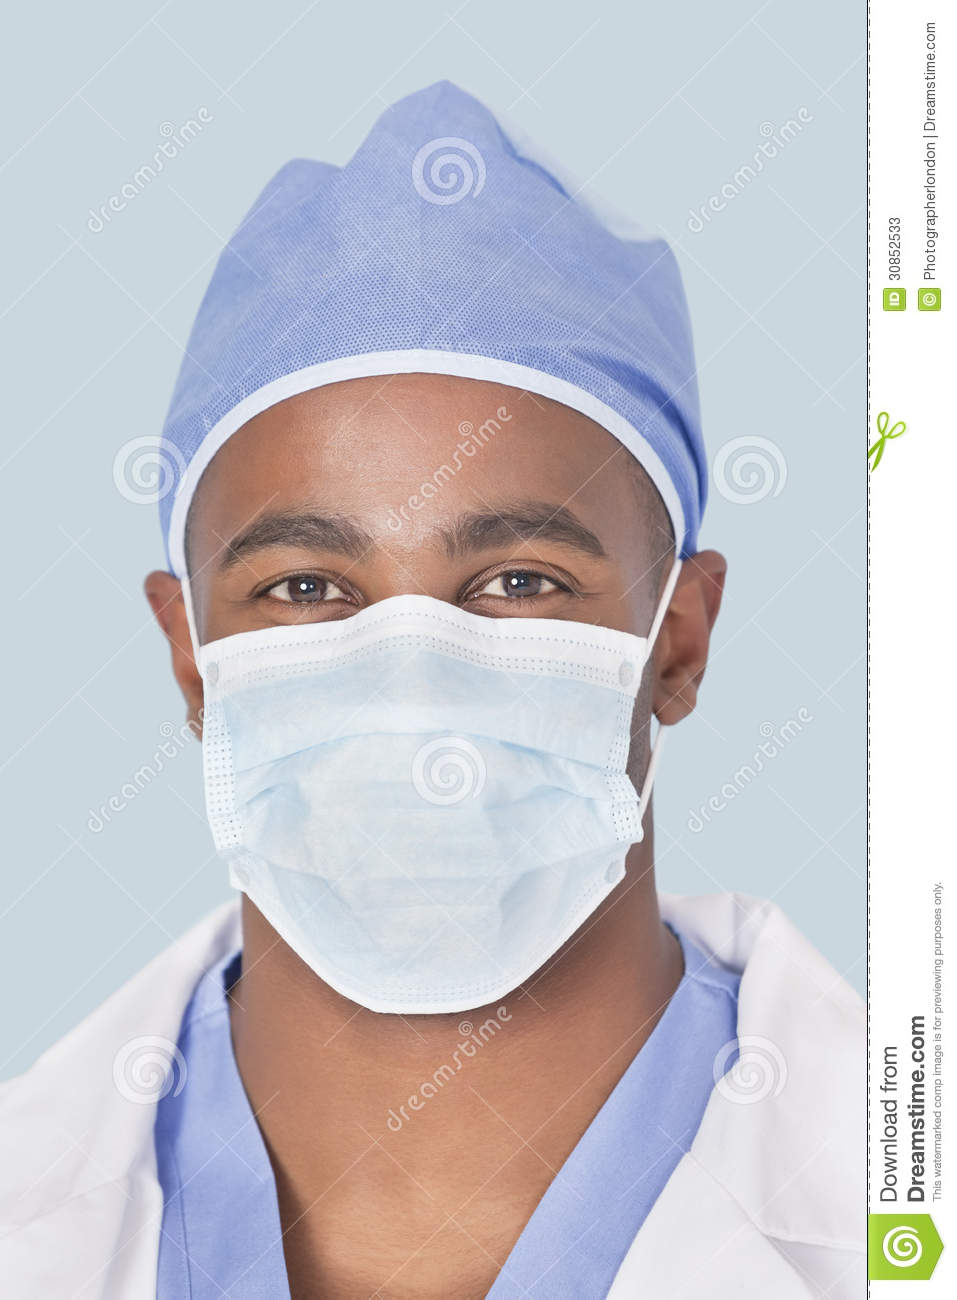mask: (162, 599, 680, 1035)
